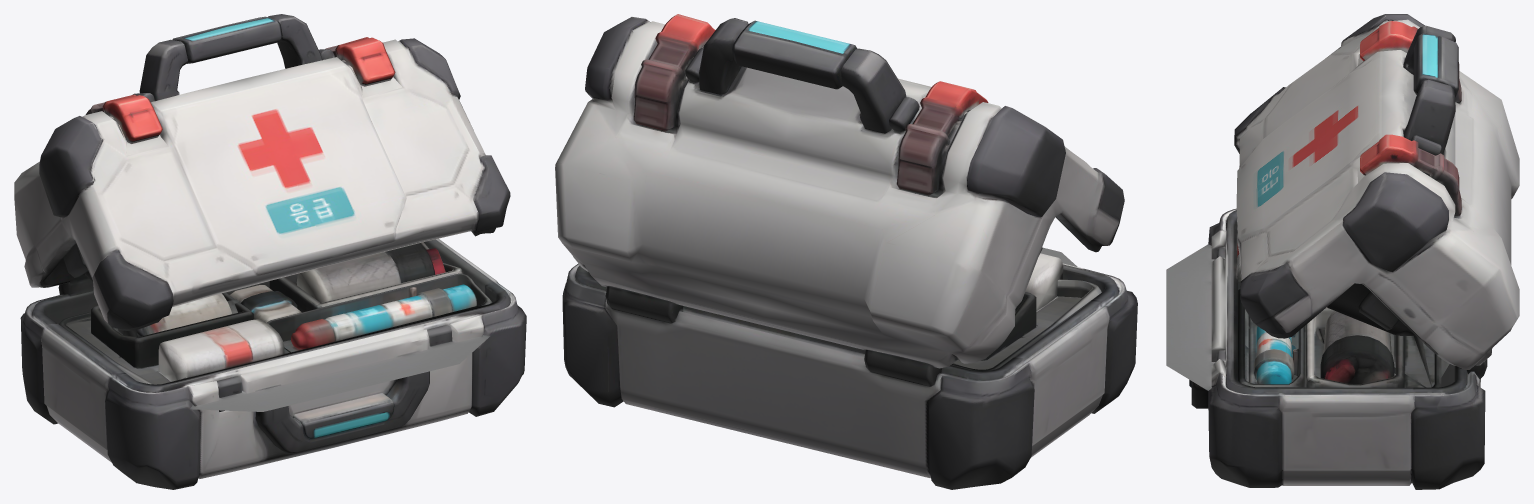
File: first+aid+kit+3d+model.fbx
The picture shows the model from 3 angles, left to right: view 1: azimuth 30°, elevation 25°; view 2: azimuth 150°, elevation 25°; view 3: azimuth 270°, elevation 25°; orthographic projection. The views are drawn at different scales.
Parts seen in each view (by area): view 1: c9c04f3f_9ed9_41c6_aaf5_6457476d96b1; view 2: c9c04f3f_9ed9_41c6_aaf5_6457476d96b1; view 3: c9c04f3f_9ed9_41c6_aaf5_6457476d96b1.
Boxes of the visible parts, x1,y1,x2,y2 form: c9c04f3f_9ed9_41c6_aaf5_6457476d96b1: (14,14,526,489); c9c04f3f_9ed9_41c6_aaf5_6457476d96b1: (555,14,1137,489); c9c04f3f_9ed9_41c6_aaf5_6457476d96b1: (1166,14,1519,489).
Bounding box in the file's own units: 0.9995 × 0.8306 × 0.7622.
Materials: 1 (1 with a texture image).
